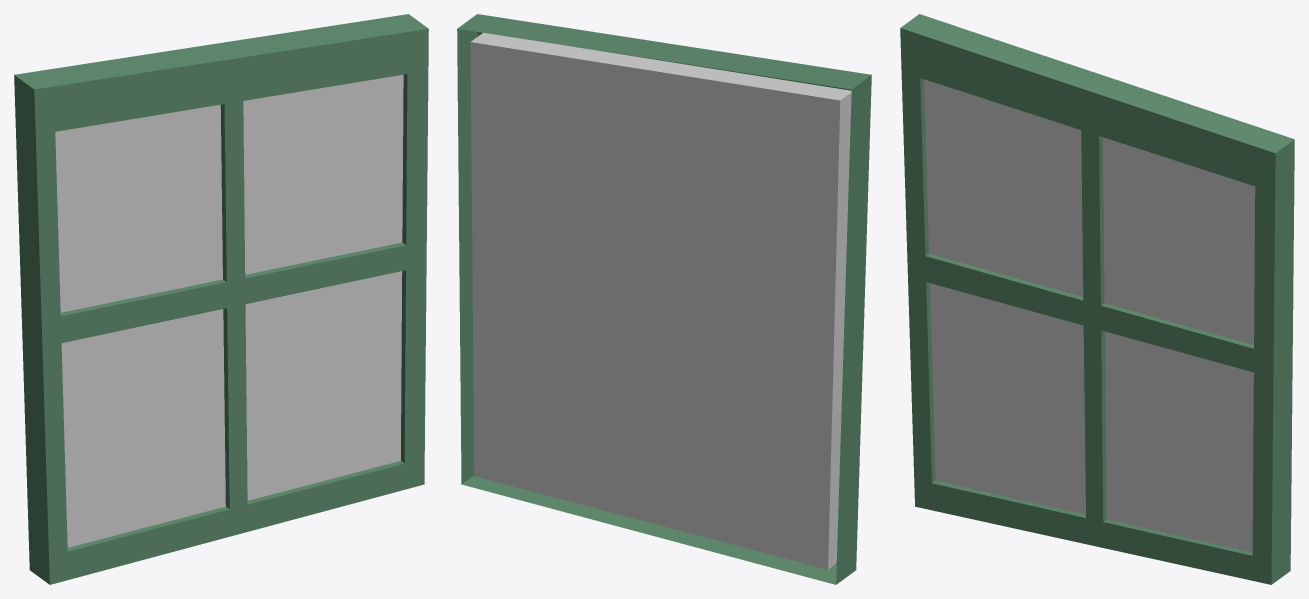
File: Window.fbx
The picture shows the model from 3 angles, left to right: view 1: azimuth 30°, elevation 25°; view 2: azimuth 150°, elevation 25°; view 3: azimuth 330°, elevation 25°; orthographic projection. The views are drawn at different scales.
Parts seen in each view (by area): view 1: WindowGlass, WindowFrame; view 2: WindowGlass, WindowFrame; view 3: WindowGlass, WindowFrame.
Boxes of the visible parts, box(x1,y1,x2,y2) form: WindowGlass: box(55, 74, 403, 547); WindowFrame: box(14, 14, 428, 584); WindowGlass: box(470, 32, 851, 569); WindowFrame: box(457, 14, 871, 584); WindowGlass: box(924, 79, 1255, 552); WindowFrame: box(900, 14, 1294, 584).
Size of the model in its own units: 61.86 by 74.79 by 5.48.
